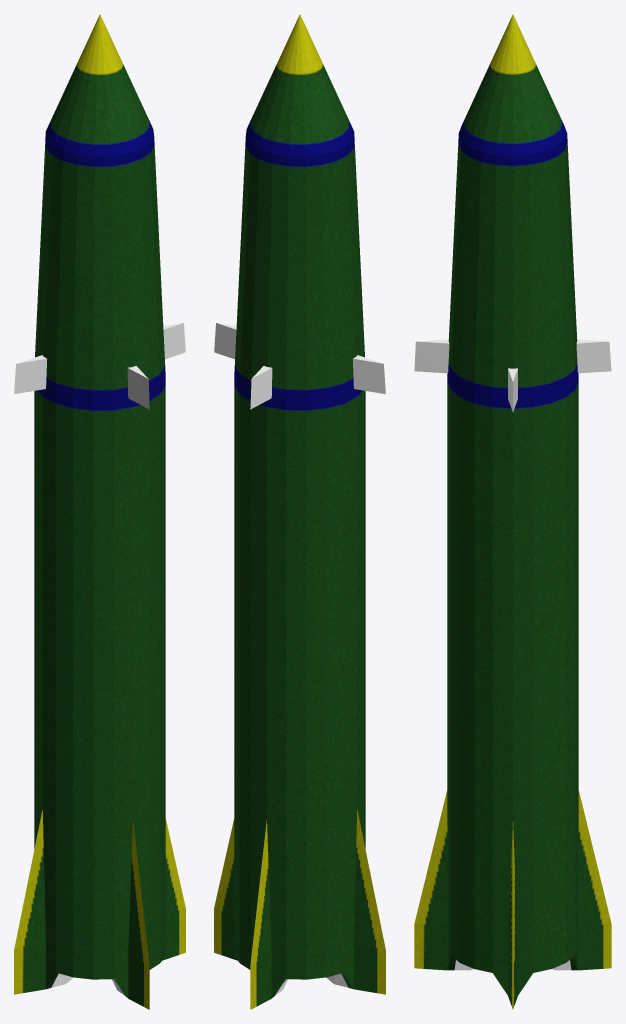
Rendered from Missile_Medium.obj.
3 renders of one model, left to right at view 1: azimuth 30°, elevation 25°; view 2: azimuth 150°, elevation 25°; view 3: azimuth 270°, elevation 25°, orthographic.
Parts seen in each view (by area): view 1: Complete_Rocket_Cylinder.008; view 2: Complete_Rocket_Cylinder.008; view 3: Complete_Rocket_Cylinder.008.
Boxes of the visible parts, left/top/right/bottom form: Complete_Rocket_Cylinder.008: left=14, top=14, right=185, bottom=1009; Complete_Rocket_Cylinder.008: left=214, top=14, right=385, bottom=1009; Complete_Rocket_Cylinder.008: left=414, top=14, right=611, bottom=1009.
Size of the model in its own units: 3 by 16.03 by 3.
